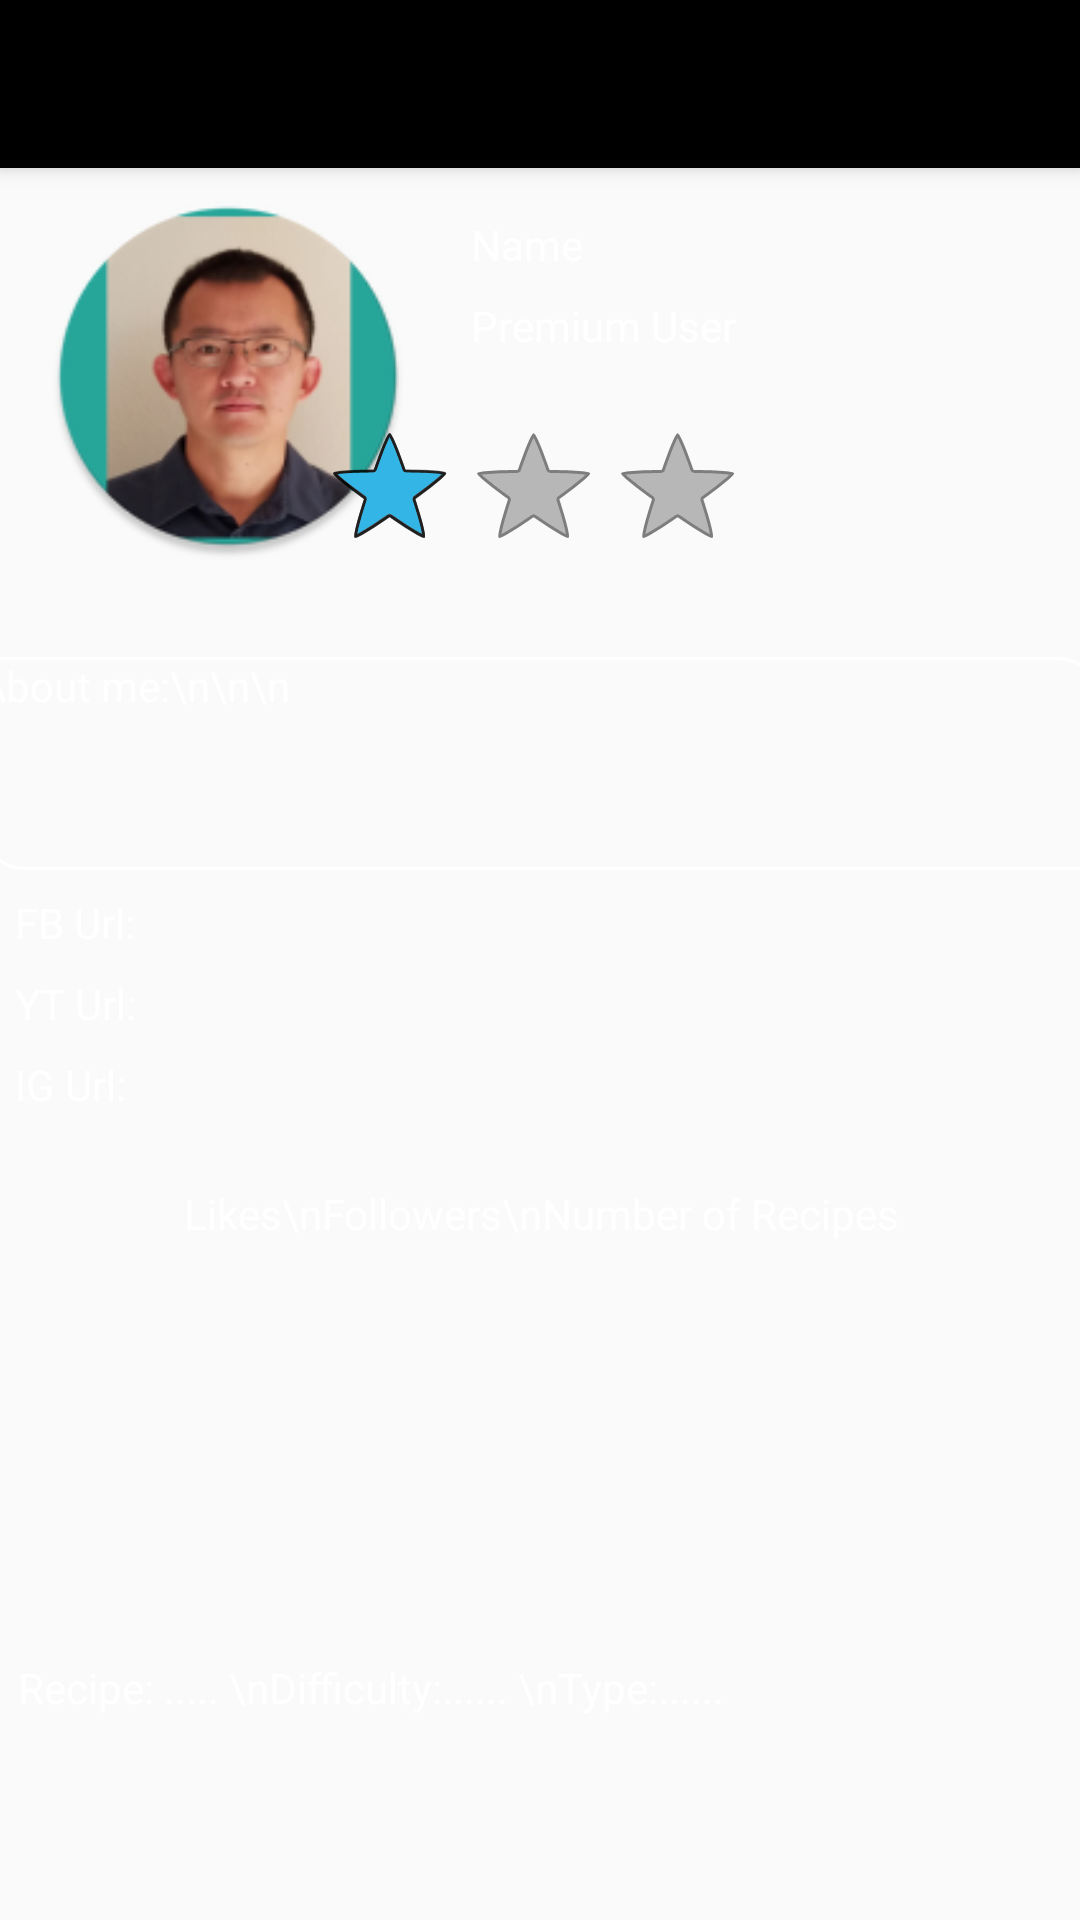

Icon click points for this 1080x1920 phone screenshot, format (x=x, y=y):
profile pic round: (x=234, y=379)
